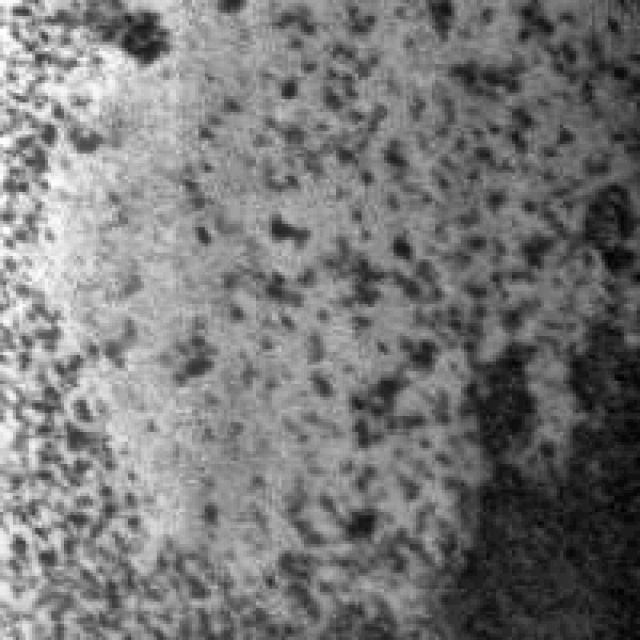Rolled_in_Scale: (259, 0, 586, 595), (0, 0, 246, 637), (458, 310, 636, 637)
